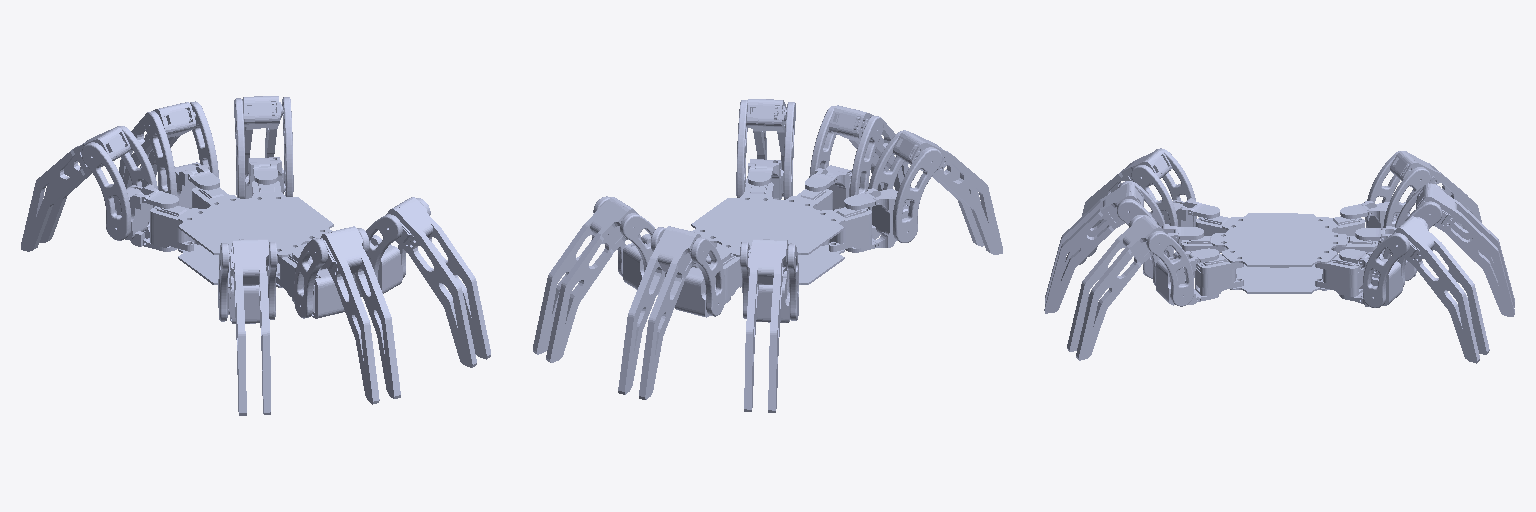
robot.urdf — hexapod_robot:
<?xml version="1.0"?>
<!--
  GENERATED FILE. Do not hand-edit.
  Produced by scripts/generate_cad_urdf.py from the untouched SolidWorks
  draft-1 export (hexapod_description/urdf/cad/hexapod.urdf). Only names
  and collision geometry are changed; every visual mesh, inertial value,
  joint origin, axis, and limit is preserved byte for byte from the CAD
  export. Re-run scripts/build.sh (or generate_cad_urdf.py directly) to
  regenerate after touching the export or the adapter.
-->
<robot name="hexapod_robot">
  <link name="body_link">
    <inertial>
      <origin xyz="8.62490110224989E-05 -7.23154466308884E-06 0.0200804205330727" rpy="0 0 0" />
      <mass value="0.706946452547994" />
      <inertia ixx="0.000559985334864702" ixy="-5.22783972531356E-07" ixz="-3.9096391166896E-09" iyy="0.000504926219275699" iyz="-3.21327152058669E-09" izz="0.000980879027412087" />
    </inertial>
    <visual>
      <origin xyz="0 0 0" rpy="0 0 0" />
      <geometry>
        <mesh filename="package://hexapod_description/meshes/visual/base_link.STL" />
      </geometry>
      <material name="">
        <color rgba="0.792156862745098 0.819607843137255 0.933333333333333 1" />
      </material>
    </visual>
    <collision>
      <origin xyz="0.000008 0.000074 0.022700" rpy="0 0 0" />
      <geometry>
        <box size="0.193077 0.289817 0.055400" />
      </geometry>
    </collision>
  </link>
  <link name="front_right_coxa_link">
    <inertial>
      <origin xyz="0.0192124701467604 -0.044711959370196 -0.03045997506971" rpy="0 0 0" />
      <mass value="0.110740946642426" />
      <inertia ixx="3.76752551849112E-05" ixy="1.58616452315375E-06" ixz="9.03757247568795E-08" iyy="3.41189101691375E-05" iyz="1.89813286649505E-07" izz="2.08555142923417E-05" />
    </inertial>
    <visual>
      <origin xyz="0 0 0" rpy="0 0 0" />
      <geometry>
        <mesh filename="package://hexapod_description/meshes/visual/Right_Coxa_Leg1_Link.STL" />
      </geometry>
      <material name="">
        <color rgba="0.792156862745098 0.819607843137255 0.933333333333333 1" />
      </material>
    </visual>
    <collision>
      <origin xyz="0.018656 -0.031353 -0.029756" rpy="0 0 0" />
      <geometry>
        <box size="0.068213 0.093607 0.071425" />
      </geometry>
    </collision>
  </link>
  <joint name="front_right_coxa_joint" type="revolute">
    <origin xyz="0.073337 -0.10461 0.051425" rpy="0 0 0" />
    <parent link="body_link" />
    <child link="front_right_coxa_link" />
    <axis xyz="0 0 -1" />
    <limit lower="-1.5708" upper="1.5708" effort="3.5" velocity="10" />
  </joint>
  <link name="front_right_femur_link">
    <inertial>
      <origin xyz="-0.028471310378317 0.0486432841284934 -0.01361796486847" rpy="0 0 0" />
      <mass value="0.0729433877408507" />
      <inertia ixx="0.000120203846961141" ixy="2.04769566123349E-08" ixz="4.87494493437541E-08" iyy="2.62137272516332E-05" iyz="3.51465238835319E-05" izz="9.51231778290568E-05" />
    </inertial>
    <visual>
      <origin xyz="0 0 0" rpy="0 0 0" />
      <geometry>
        <mesh filename="package://hexapod_description/meshes/visual/Right_Femur_Leg1_Link.STL" />
      </geometry>
      <material name="">
        <color rgba="0.792156862745098 0.819607843137255 0.933333333333333 1" />
      </material>
    </visual>
    <collision>
      <origin xyz="-0.028150 0.046210 -0.019008" rpy="0 0 0" />
      <geometry>
        <box size="0.072700 0.127420 0.074626" />
      </geometry>
    </collision>
  </link>
  <joint name="front_right_femur_joint" type="revolute">
    <origin xyz="-0.003544 -0.064372 -0.040126" rpy="1.5708 0 -2.7126" />
    <parent link="front_right_coxa_link" />
    <child link="front_right_femur_link" />
    <axis xyz="-1 0 0" />
    <limit lower="-1.5708" upper="1.5708" effort="3.5" velocity="10" />
  </joint>
  <link name="front_right_tibia_link">
    <inertial>
      <origin xyz="-0.0314487487772004 0.0470515362054005 0.0450207779881213" rpy="0 0 0" />
      <mass value="0.1706030993055" />
      <inertia ixx="0.00047460618773575" ixy="-1.57039713310485E-06" ixz="-1.47473358930759E-06" iyy="0.000181680060684949" iyz="-0.000200249478287569" izz="0.000308309295780522" />
    </inertial>
    <visual>
      <origin xyz="0 0 0" rpy="0 0 0" />
      <geometry>
        <mesh filename="package://hexapod_description/meshes/visual/Right_Tibia_Leg1_Link.STL" />
      </geometry>
      <material name="">
        <color rgba="0.792156862745098 0.819607843137255 0.933333333333333 1" />
      </material>
    </visual>
    <collision>
      <origin xyz="-0.028725 0.075397 0.051319" rpy="0 0 0" />
      <geometry>
        <box size="0.055400 0.194469 0.146149" />
      </geometry>
    </collision>
  </link>
  <joint name="front_right_tibia_joint" type="revolute">
    <origin xyz="0.002925 0.09242 -0.038821" rpy="-3.1416 0 0" />
    <parent link="front_right_femur_link" />
    <child link="front_right_tibia_link" />
    <axis xyz="-1 0 0" />
    <limit lower="-1.5708" upper="1.5708" effort="3.5" velocity="10" />
  </joint>
  <link name="middle_right_coxa_link">
    <inertial>
      <origin xyz="-0.00137658735645552 -0.0486454863222429 -0.0304599738505539" rpy="0 0 0" />
      <mass value="0.110740952017709" />
      <inertia ixx="3.82566309312641E-05" ixy="-3.32206107451542E-07" ixz="1.61834261102814E-07" iyy="3.35375415958777E-05" iyz="1.34190826682397E-07" izz="2.08555157339188E-05" />
    </inertial>
    <visual>
      <origin xyz="0 0 0" rpy="0 0 0" />
      <geometry>
        <mesh filename="package://hexapod_description/meshes/visual/Right_Coxa_Leg2_Link.STL" />
      </geometry>
      <material name="">
        <color rgba="0.792156862745098 0.819607843137255 0.933333333333333 1" />
      </material>
    </visual>
    <collision>
      <origin xyz="-0.004452 -0.030123 -0.029756" rpy="0 0 0" />
      <geometry>
        <box size="0.055508 0.091246 0.071425" />
      </geometry>
    </collision>
  </link>
  <joint name="middle_right_coxa_joint" type="revolute">
    <origin xyz="-0.00081968 -0.12683 0.051425" rpy="0 0 0" />
    <parent link="body_link" />
    <child link="middle_right_coxa_link" />
    <axis xyz="0 0 -1" />
    <limit lower="-1.5708" upper="1.5708" effort="3.5" velocity="10" />
  </joint>
  <link name="middle_right_femur_link">
    <inertial>
      <origin xyz="-0.0284713104073935 0.0486432841241405 -0.0136179648668496" rpy="0 0 0" />
      <mass value="0.0729433877391094" />
      <inertia ixx="0.000120203846960989" ixy="2.0476962495809E-08" ixz="4.87494637240557E-08" iyy="2.62137272561107E-05" iyz="3.5146523888696E-05" izz="9.51231778232416E-05" />
    </inertial>
    <visual>
      <origin xyz="0 0 0" rpy="0 0 0" />
      <geometry>
        <mesh filename="package://hexapod_description/meshes/visual/Right_Femur_Leg2_Link.STL" />
      </geometry>
      <material name="">
        <color rgba="0.792156862745098 0.819607843137255 0.933333333333333 1" />
      </material>
    </visual>
    <collision>
      <origin xyz="-0.028150 0.046210 -0.019008" rpy="0 0 0" />
      <geometry>
        <box size="0.072700 0.127420 0.074626" />
      </geometry>
    </collision>
  </link>
  <joint name="middle_right_femur_joint" type="revolute">
    <origin xyz="-0.030292 -0.05691 -0.040126" rpy="1.5708 0 3.1365" />
    <parent link="middle_right_coxa_link" />
    <child link="middle_right_femur_link" />
    <axis xyz="-1 0 0" />
    <limit lower="-1.5708" upper="1.5708" effort="3.5" velocity="10" />
  </joint>
  <link name="middle_right_tibia_link">
    <inertial>
      <origin xyz="-0.0314487454921339 -0.0470515352865923 -0.0450207753834909" rpy="0 0 0" />
      <mass value="0.170603108487823" />
      <inertia ixx="0.000474606208123611" ixy="1.57037383655099E-06" ixz="1.47471360428915E-06" iyy="0.000181680087977423" iyz="-0.000200249489956333" izz="0.000308309291305821" />
    </inertial>
    <visual>
      <origin xyz="0 0 0" rpy="0 0 0" />
      <geometry>
        <mesh filename="package://hexapod_description/meshes/visual/Right_Tibia_Leg2_Link.STL" />
      </geometry>
      <material name="">
        <color rgba="0.792156862745098 0.819607843137255 0.933333333333333 1" />
      </material>
    </visual>
    <collision>
      <origin xyz="-0.028725 -0.075397 -0.051319" rpy="0 0 0" />
      <geometry>
        <box size="0.055400 0.194469 0.146149" />
      </geometry>
    </collision>
  </link>
  <joint name="middle_right_tibia_joint" type="revolute">
    <origin xyz="0.002925 0.09242 -0.038821" rpy="0 0 0" />
    <parent link="middle_right_femur_link" />
    <child link="middle_right_tibia_link" />
    <axis xyz="-1 0 0" />
    <limit lower="-1.5708" upper="1.5708" effort="3.5" velocity="10" />
  </joint>
  <link name="rear_right_coxa_link">
    <inertial>
      <origin xyz="-0.0226111756209308 -0.0430930629658053 -0.0304600370498178" rpy="0 0 0" />
      <mass value="0.11074131439829" />
      <inertia ixx="3.70834126612945E-05" ixy="-2.06657764858493E-06" ixz="2.04357466517174E-07" iyy="3.47110335092588E-05" iyz="4.94548856803286E-08" izz="2.08555102731345E-05" />
    </inertial>
    <visual>
      <origin xyz="0 0 0" rpy="0 0 0" />
      <geometry>
        <mesh filename="package://hexapod_description/meshes/visual/Right_Coxa_Leg3_Link.STL" />
      </geometry>
      <material name="">
        <color rgba="0.792156862745098 0.819607843137255 0.933333333333333 1" />
      </material>
    </visual>
    <collision>
      <origin xyz="-0.019849 -0.031293 -0.029756" rpy="0 0 0" />
      <geometry>
        <box size="0.070636 0.093523 0.071425" />
      </geometry>
    </collision>
  </link>
  <joint name="rear_right_coxa_joint" type="revolute">
    <origin xyz="-0.075134 -0.10316 0.051425" rpy="0 0 0" />
    <parent link="body_link" />
    <child link="rear_right_coxa_link" />
    <axis xyz="0 0 -1" />
    <limit lower="-1.5708" upper="1.5708" effort="3.5" velocity="10" />
  </joint>
  <link name="rear_right_femur_link">
    <inertial>
      <origin xyz="-0.028471310378317 0.0486432841284932 -0.0136179648684707" rpy="0 0 0" />
      <mass value="0.0729433877408506" />
      <inertia ixx="0.00012020384696114" ixy="2.04769566123167E-08" ixz="4.87494493437643E-08" iyy="2.62137272516333E-05" iyz="3.51465238835317E-05" izz="9.5123177829056E-05" />
    </inertial>
    <visual>
      <origin xyz="0 0 0" rpy="0 0 0" />
      <geometry>
        <mesh filename="package://hexapod_description/meshes/visual/Right_Femur_Leg3_Link.STL" />
      </geometry>
      <material name="">
        <color rgba="0.792156862745098 0.819607843137255 0.933333333333333 1" />
      </material>
    </visual>
    <collision>
      <origin xyz="-0.028150 0.046210 -0.019008" rpy="0 0 0" />
      <geometry>
        <box size="0.072700 0.127420 0.074626" />
      </geometry>
    </collision>
  </link>
  <joint name="rear_right_femur_joint" type="revolute">
    <origin xyz="-0.0522167121127717 -0.037812028315188 -0.0401262770968859" rpy="1.5707963267949 0 2.68155170092326" />
    <parent link="rear_right_coxa_link" />
    <child link="rear_right_femur_link" />
    <axis xyz="-1 0 0" />
    <limit lower="-1.5708" upper="1.5708" effort="3.5" velocity="10" />
  </joint>
  <link name="rear_right_tibia_link">
    <inertial>
      <origin xyz="-0.0314487448360741 -0.0470515280326701 -0.0450207720523336" rpy="0 0 0" />
      <mass value="0.170603131168185" />
      <inertia ixx="0.000474606463571399" ixy="1.57037982394019E-06" ixz="1.47471821262756E-06" iyy="0.000181680161431848" iyz="-0.000200249611133505" izz="0.000308309469277096" />
    </inertial>
    <visual>
      <origin xyz="0 0 0" rpy="0 0 0" />
      <geometry>
        <mesh filename="package://hexapod_description/meshes/visual/Right_Tibia_Leg3_Link.STL" />
      </geometry>
      <material name="">
        <color rgba="0.792156862745098 0.819607843137255 0.933333333333333 1" />
      </material>
    </visual>
    <collision>
      <origin xyz="-0.028725 -0.075397 -0.051319" rpy="0 0 0" />
      <geometry>
        <box size="0.055400 0.194469 0.146149" />
      </geometry>
    </collision>
  </link>
  <joint name="rear_right_tibia_joint" type="revolute">
    <origin xyz="0.00292500000012152 0.0924203060858688 -0.0388209487929186" rpy="0 0 0" />
    <parent link="rear_right_femur_link" />
    <child link="rear_right_tibia_link" />
    <axis xyz="-1 0 0" />
    <limit lower="-1.5708" upper="1.5708" effort="3.5" velocity="10" />
  </joint>
  <link name="front_left_coxa_link">
    <inertial>
      <origin xyz="0.0224210564973364 0.0431922859365936 -0.0304600370396376" rpy="0 0 0" />
      <mass value="0.110741314452076" />
      <inertia ixx="3.71015801533698E-05" ixy="-2.05604304281523E-06" ixz="-2.04137559468893E-07" iyy="3.4692866085858E-05" iyz="-5.0354947640653E-08" izz="2.0855510290044E-05" />
    </inertial>
    <visual>
      <origin xyz="0 0 0" rpy="0 0 0" />
      <geometry>
        <mesh filename="package://hexapod_description/meshes/visual/Left_Coxa_Leg1_Link.STL" />
      </geometry>
      <material name="">
        <color rgba="0.792156862745098 0.819607843137255 0.933333333333333 1" />
      </material>
    </visual>
    <collision>
      <origin xyz="0.019764 0.031322 -0.029756" rpy="0 0 0" />
      <geometry>
        <box size="0.070457 0.093573 0.071425" />
      </geometry>
    </collision>
  </link>
  <joint name="front_left_coxa_joint" type="revolute">
    <origin xyz="0.07517 0.10324 0.051425" rpy="0 0 0" />
    <parent link="body_link" />
    <child link="front_left_coxa_link" />
    <axis xyz="0 0 -1" />
    <limit lower="-1.5708" upper="1.5708" effort="3.5" velocity="10" />
  </joint>
  <link name="front_left_femur_link">
    <inertial>
      <origin xyz="-0.0284713103783176 0.0486432841284931 -0.0136179648684706" rpy="0 0 0" />
      <mass value="0.0729433877408503" />
      <inertia ixx="0.000120203846961139" ixy="2.04769566123178E-08" ixz="4.87494493438083E-08" iyy="2.62137272516336E-05" iyz="3.51465238835318E-05" izz="9.51231778290548E-05" />
    </inertial>
    <visual>
      <origin xyz="0 0 0" rpy="0 0 0" />
      <geometry>
        <mesh filename="package://hexapod_description/meshes/visual/Left_Femur_Leg1_Link.STL" />
      </geometry>
      <material name="">
        <color rgba="0.792156862745098 0.819607843137255 0.933333333333333 1" />
      </material>
    </visual>
    <collision>
      <origin xyz="-0.028150 0.046210 -0.019008" rpy="0 0 0" />
      <geometry>
        <box size="0.072700 0.127420 0.074626" />
      </geometry>
    </collision>
  </link>
  <joint name="front_left_femur_joint" type="revolute">
    <origin xyz="0.0520495776217711 0.038041766238858 -0.0401262770968859" rpy="1.5707963267949 0 -0.455634206200853" />
    <parent link="front_left_coxa_link" />
    <child link="front_left_femur_link" />
    <axis xyz="-1 0 0" />
    <limit lower="-1.5708" upper="1.5708" effort="3.5" velocity="10" />
  </joint>
  <link name="front_left_tibia_link">
    <inertial>
      <origin xyz="-0.0314487474130667 -0.0470515358539297 -0.0450207774166511" rpy="0 0 0" />
      <mass value="0.170603103587985" />
      <inertia ixx="0.000474606207644278" ixy="1.57037961809821E-06" ixz="1.47471805350588E-06" iyy="0.000181680070286555" iyz="-0.000200249488139734" izz="0.000308309304253595" />
    </inertial>
    <visual>
      <origin xyz="0 0 0" rpy="0 0 0" />
      <geometry>
        <mesh filename="package://hexapod_description/meshes/visual/Left_Tibia_Leg1_Link.STL" />
      </geometry>
      <material name="">
        <color rgba="0.792156862745098 0.819607843137255 0.933333333333333 1" />
      </material>
    </visual>
    <collision>
      <origin xyz="-0.028725 -0.075397 -0.051319" rpy="0 0 0" />
      <geometry>
        <box size="0.055400 0.194469 0.146149" />
      </geometry>
    </collision>
  </link>
  <joint name="front_left_tibia_joint" type="revolute">
    <origin xyz="0.0029250000001213 0.0924203060858687 -0.0388209487929186" rpy="0 0 0" />
    <parent link="front_left_femur_link" />
    <child link="front_left_tibia_link" />
    <axis xyz="-1 0 0" />
    <limit lower="-1.5708" upper="1.5708" effort="3.5" velocity="10" />
  </joint>
  <link name="middle_left_coxa_link">
    <inertial>
      <origin xyz="0.00228072508242616 0.0486114866122664 -0.0304599740044971" rpy="0 0 0" />
      <mass value="0.110740951117063" />
      <inertia ixx="3.82426493185594E-05" ixy="-4.19694604130263E-07" ixz="-1.64300454982495E-07" iyy="3.35515221308778E-05" iyz="-1.31159179275203E-07" izz="2.08555158294632E-05" />
    </inertial>
    <visual>
      <origin xyz="0 0 0" rpy="0 0 0" />
      <geometry>
        <mesh filename="package://hexapod_description/meshes/visual/Left_Coxa_Leg2_Link.STL" />
      </geometry>
      <material name="">
        <color rgba="0.792156862745098 0.819607843137255 0.933333333333333 1" />
      </material>
    </visual>
    <collision>
      <origin xyz="0.005367 0.030287 -0.029756" rpy="0 0 0" />
      <geometry>
        <box size="0.055887 0.091566 0.071425" />
      </geometry>
    </collision>
  </link>
  <joint name="middle_left_coxa_joint" type="revolute">
    <origin xyz="0.001538 0.12683 0.051425" rpy="0 0 0" />
    <parent link="body_link" />
    <child link="middle_left_coxa_link" />
    <axis xyz="0 0 -1" />
    <limit lower="-1.5708" upper="1.5708" effort="3.5" velocity="10" />
  </joint>
  <link name="middle_left_femur_link">
    <inertial>
      <origin xyz="-0.0284713104016907 0.0486432841246363 -0.0136179648677018" rpy="0 0 0" />
      <mass value="0.0729433877336692" />
      <inertia ixx="0.000120203846960467" ixy="2.04769615553334E-08" ixz="4.87494615266718E-08" iyy="2.62137272547639E-05" iyz="3.51465238878666E-05" izz="9.51231778242245E-05" />
    </inertial>
    <visual>
      <origin xyz="0 0 0" rpy="0 0 0" />
      <geometry>
        <mesh filename="package://hexapod_description/meshes/visual/Left_Femur_Leg2_Link.STL" />
      </geometry>
      <material name="">
        <color rgba="0.792156862745098 0.819607843137255 0.933333333333333 1" />
      </material>
    </visual>
    <collision>
      <origin xyz="-0.028150 0.046210 -0.019008" rpy="0 0 0" />
      <geometry>
        <box size="0.072700 0.127420 0.074626" />
      </geometry>
    </collision>
  </link>
  <joint name="middle_left_femur_joint" type="revolute">
    <origin xyz="0.0313443591218012 0.0563370718126191 -0.0401262770968858" rpy="1.5707963267949 0 -0.0237086396679497" />
    <parent link="middle_left_coxa_link" />
    <child link="middle_left_femur_link" />
    <axis xyz="-1 0 0" />
    <limit lower="-1.5708" upper="1.5708" effort="3.5" velocity="10" />
  </joint>
  <link name="middle_left_tibia_link">
    <inertial>
      <origin xyz="-0.0314487454587806 -0.0470515348684587 -0.0450207750565114" rpy="0 0 0" />
      <mass value="0.170603110209987" />
      <inertia ixx="0.000474606224007975" ixy="1.57037501407036E-06" ixz="1.47471462234695E-06" iyy="0.000181680094546663" iyz="-0.00020024949768968" izz="0.000308309300501813" />
    </inertial>
    <visual>
      <origin xyz="0 0 0" rpy="0 0 0" />
      <geometry>
        <mesh filename="package://hexapod_description/meshes/visual/Left_Tibia_Leg2_Link.STL" />
      </geometry>
      <material name="">
        <color rgba="0.792156862745098 0.819607843137255 0.933333333333333 1" />
      </material>
    </visual>
    <collision>
      <origin xyz="-0.028725 -0.075397 -0.051319" rpy="0 0 0" />
      <geometry>
        <box size="0.055400 0.194469 0.146149" />
      </geometry>
    </collision>
  </link>
  <joint name="middle_left_tibia_joint" type="revolute">
    <origin xyz="0.0029250000001213 0.0924203060858686 -0.0388209487929191" rpy="0 0 0" />
    <parent link="middle_left_femur_link" />
    <child link="middle_left_tibia_link" />
    <axis xyz="-1 0 0" />
    <limit lower="-1.5708" upper="1.5708" effort="3.5" velocity="10" />
  </joint>
  <link name="rear_left_coxa_link">
    <inertial>
      <origin xyz="-0.0194581894023425 0.045010353051757 -0.0306900533277439" rpy="0 0 0" />
      <mass value="0.109902462382352" />
      <inertia ixx="3.76472555745709E-05" ixy="1.59397867732201E-06" ixz="-8.99575906779851E-08" iyy="3.41049132121181E-05" iyz="-1.90011790823185E-07" izz="2.08144013249946E-05" />
    </inertial>
    <visual>
      <origin xyz="0 0 0" rpy="0 0 0" />
      <geometry>
        <mesh filename="package://hexapod_description/meshes/visual/Left_Coxa_Leg3_Link.STL" />
      </geometry>
      <material name="">
        <color rgba="0.792156862745098 0.819607843137255 0.933333333333333 1" />
      </material>
    </visual>
    <collision>
      <origin xyz="-0.018722 0.031342 -0.029756" rpy="0 0 0" />
      <geometry>
        <box size="0.068340 0.093579 0.071425" />
      </geometry>
    </collision>
  </link>
  <joint name="rear_left_coxa_joint" type="revolute">
    <origin xyz="-0.0732031931150756 0.104537490405473 0.0514249999999997" rpy="0 0 0" />
    <parent link="body_link" />
    <child link="rear_left_coxa_link" />
    <axis xyz="0 0 -1" />
    <limit lower="-1.5708" upper="1.5708" effort="3.5" velocity="10" />
  </joint>
  <link name="rear_left_femur_link">
    <inertial>
      <origin xyz="-0.0284713103783172 0.0486432841284937 -0.0136179648684708" rpy="0 0 0" />
      <mass value="0.0729433877408514" />
      <inertia ixx="0.000120203846961141" ixy="2.0476956612266E-08" ixz="4.87494493437846E-08" iyy="2.62137272516342E-05" iyz="3.51465238835325E-05" izz="9.5123177829056E-05" />
    </inertial>
    <visual>
      <origin xyz="0 0 0" rpy="0 0 0" />
      <geometry>
        <mesh filename="package://hexapod_description/meshes/visual/Left_Femur_Leg3_Link.STL" />
      </geometry>
      <material name="">
        <color rgba="0.792156862745098 0.819607843137255 0.933333333333333 1" />
      </material>
    </visual>
    <collision>
      <origin xyz="-0.028150 0.046210 -0.019008" rpy="0 0 0" />
      <geometry>
        <box size="0.072700 0.127420 0.074626" />
      </geometry>
    </collision>
  </link>
  <joint name="rear_left_femur_joint" type="revolute">
    <origin xyz="0.00340225433836561 0.0643798040894326 -0.0401262770968859" rpy="1.5707963267949 0 0.431215901758895" />
    <parent link="rear_left_coxa_link" />
    <child link="rear_left_femur_link" />
    <axis xyz="-1 0 0" />
    <limit lower="-1.5708" upper="1.5708" effort="3.5" velocity="10" />
  </joint>
  <link name="rear_left_tibia_link">
    <inertial>
      <origin xyz="-0.0314487486499762 -0.0470515360321857 -0.0450207777859744" rpy="0 0 0" />
      <mass value="0.170603100671333" />
      <inertia ixx="0.000474606194991875" ixy="1.57039708802003E-06" ixz="1.47473354928433E-06" iyy="0.000181680064157239" iyz="-0.000200249481872227" izz="0.000308309299561722" />
    </inertial>
    <visual>
      <origin xyz="0 0 0" rpy="0 0 0" />
      <geometry>
        <mesh filename="package://hexapod_description/meshes/visual/Left_Tibia_Leg3_Link.STL" />
      </geometry>
      <material name="">
        <color rgba="0.792156862745098 0.819607843137255 0.933333333333333 1" />
      </material>
    </visual>
    <collision>
      <origin xyz="-0.028725 -0.075397 -0.051319" rpy="0 0 0" />
      <geometry>
        <box size="0.055400 0.194469 0.146149" />
      </geometry>
    </collision>
  </link>
  <joint name="rear_left_tibia_joint" type="revolute">
    <origin xyz="0.00292500000012108 0.0924203060858686 -0.0388209487929192" rpy="0 0 0" />
    <parent link="rear_left_femur_link" />
    <child link="rear_left_tibia_link" />
    <axis xyz="-1 0 0" />
    <limit lower="-1.5708" upper="1.5708" effort="3.5" velocity="10" />
  </joint>
</robot>

--- Render facts (derived) ---
The picture shows the robot from 3 angles, left to right: view 1: azimuth 30°, elevation 25°; view 2: azimuth 150°, elevation 25°; view 3: azimuth 270°, elevation 25°; orthographic projection.
Model hexapod_robot with 19 links and 18 joints (18 revolute), rooted at body_link, posed all joints at 0.
Links seen in each view (by area): view 1: body_link, front_right_tibia_link, middle_right_tibia_link, rear_right_tibia_link, rear_left_tibia_link, rear_left_femur_link, middle_left_femur_link, rear_left_coxa_link, middle_left_tibia_link, front_left_femur_link, middle_right_femur_link, front_left_tibia_link (+7 smaller); view 2: body_link, middle_left_tibia_link, front_left_tibia_link, rear_left_tibia_link, rear_right_tibia_link, rear_right_femur_link, middle_right_femur_link, rear_right_coxa_link, middle_right_tibia_link, front_right_femur_link, middle_left_femur_link, front_right_tibia_link (+7 smaller); view 3: body_link, front_left_tibia_link, front_right_tibia_link, middle_left_tibia_link, middle_right_tibia_link, front_right_femur_link, front_left_femur_link, rear_right_femur_link, rear_left_femur_link, rear_left_tibia_link, rear_right_tibia_link, front_right_coxa_link (+5 smaller).
Link boxes in pixels (x1,y1,x2,y2): body_link: [150, 181, 333, 298]; front_right_tibia_link: [386, 197, 490, 367]; middle_right_tibia_link: [320, 226, 400, 404]; rear_right_tibia_link: [229, 239, 270, 415]; rear_left_tibia_link: [21, 127, 130, 251]; rear_left_femur_link: [81, 126, 157, 240]; middle_left_femur_link: [144, 101, 218, 195]; rear_left_coxa_link: [113, 184, 178, 251]; middle_left_tibia_link: [119, 102, 195, 188]; front_left_femur_link: [234, 97, 293, 198]; middle_right_femur_link: [294, 228, 369, 318]; front_left_tibia_link: [242, 96, 282, 174]; body_link: [691, 182, 871, 299]; middle_left_tibia_link: [618, 226, 700, 399]; front_left_tibia_link: [533, 197, 638, 362]; rear_left_tibia_link: [744, 239, 787, 412]; rear_right_tibia_link: [893, 131, 1002, 254]; rear_right_femur_link: [868, 130, 941, 242]; middle_right_femur_link: [809, 106, 883, 196]; rear_right_coxa_link: [844, 188, 910, 252]; middle_right_tibia_link: [829, 105, 911, 190]; front_right_femur_link: [736, 100, 795, 199]; middle_left_femur_link: [651, 227, 724, 316]; front_right_tibia_link: [747, 99, 786, 196]; body_link: [1182, 213, 1377, 296]; front_left_tibia_link: [1393, 216, 1489, 363]; front_right_tibia_link: [1067, 215, 1163, 360]; middle_left_tibia_link: [1416, 183, 1514, 316]; middle_right_tibia_link: [1044, 182, 1143, 313]; front_right_femur_link: [1129, 215, 1193, 306]; front_left_femur_link: [1363, 217, 1428, 307]; rear_right_femur_link: [1131, 148, 1196, 242]; rear_left_femur_link: [1365, 151, 1430, 227]; rear_left_tibia_link: [1390, 151, 1481, 229]; rear_right_tibia_link: [1079, 150, 1171, 264]; front_right_coxa_link: [1156, 248, 1218, 305].
Size in the robot's own frame: 0.3854 by 0.6947 by 0.1945 metres.
Meshes: 19 distinct files referenced, 19 mesh visuals loaded (19 binary STL).
